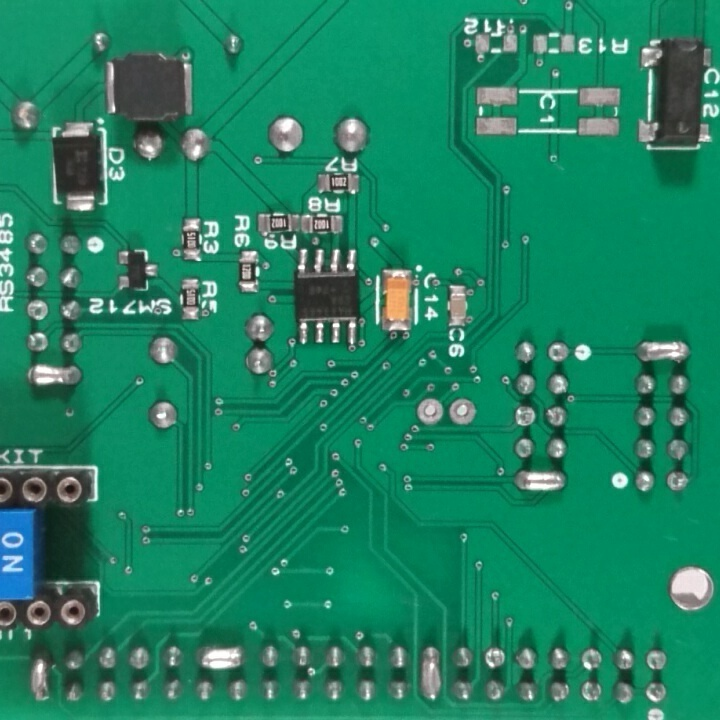F: (447, 392, 480, 431), (414, 394, 444, 430), (21, 296, 50, 325), (510, 403, 541, 430), (547, 343, 573, 369), (644, 681, 669, 708), (483, 646, 508, 673), (664, 469, 690, 494), (578, 680, 602, 706)
P: (633, 337, 696, 369), (21, 362, 89, 390), (419, 645, 447, 708), (509, 467, 572, 495), (199, 642, 246, 674), (29, 653, 53, 707)
